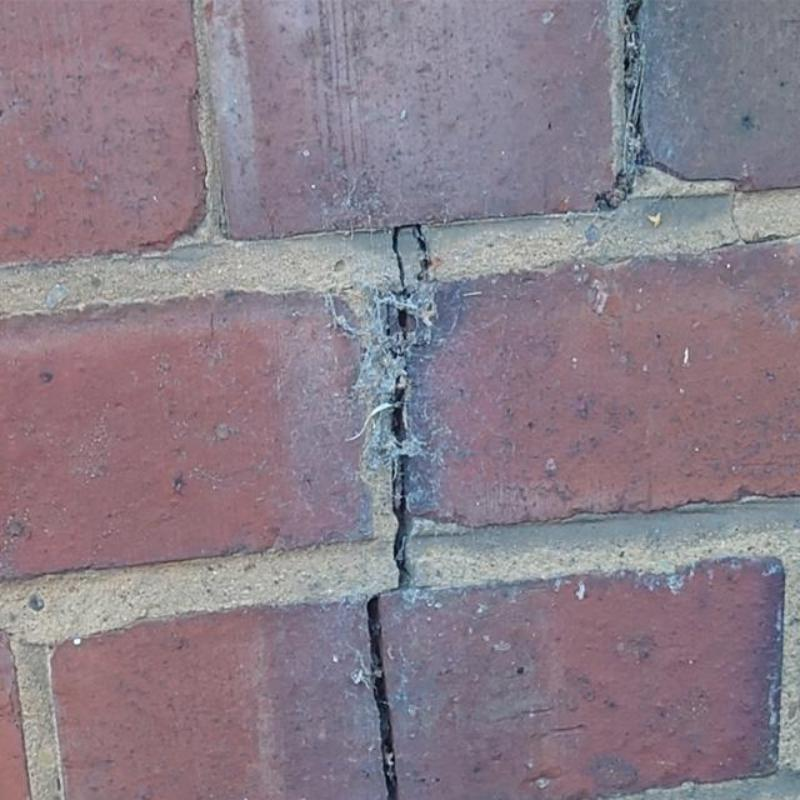crack: (382, 222, 433, 588), (640, 146, 799, 252), (595, 1, 641, 211), (369, 598, 396, 799), (370, 585, 403, 599)
